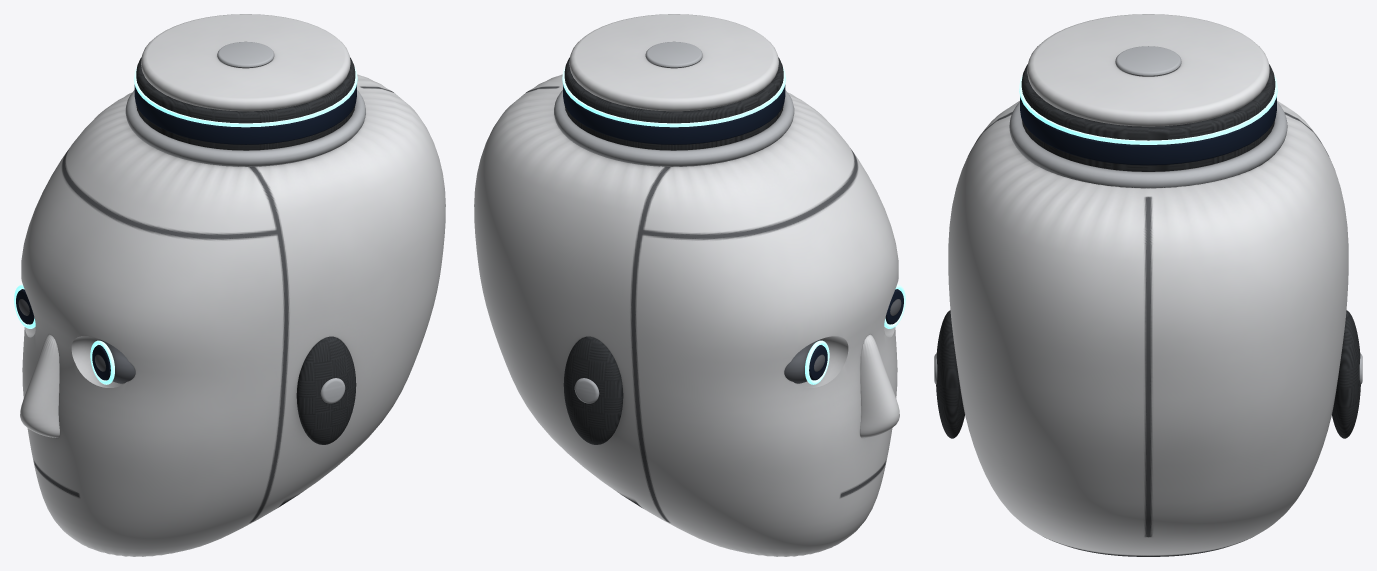
The model's file is head_v2.glb.
The picture shows the model from 3 angles, left to right: view 1: azimuth 30°, elevation 25°; view 2: azimuth 150°, elevation 25°; view 3: azimuth 270°, elevation 25°; orthographic projection. The views are drawn at different scales.
Visible parts, largest first — view 1: head_v2; view 2: head_v2; view 3: head_v2.
Part boxes in pixels (left/top/right/bottom): head_v2: left=14, top=14, right=445, bottom=556; head_v2: left=474, top=14, right=905, bottom=556; head_v2: left=934, top=14, right=1362, bottom=556.
Size of the model in its own units: 0.1927 by 0.2128 by 0.1553.
1 material, 1 textured.
